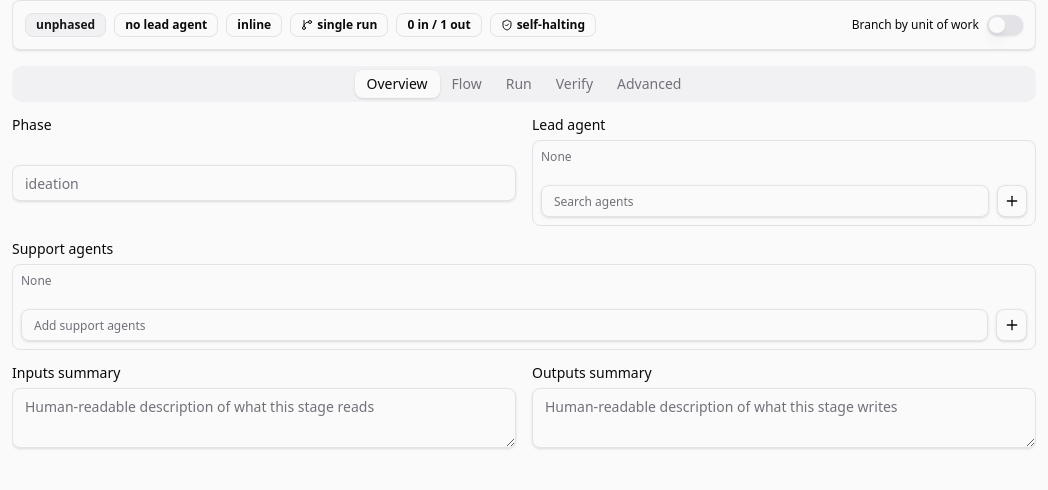
Test: StageEditor › shows advanced manual fields directly when the Advanced tab is opened
Expected: the field labelled "manual stage dependencies" is not shown
Click the tab "Advanced" at [649, 84], box [605, 70, 694, 98]
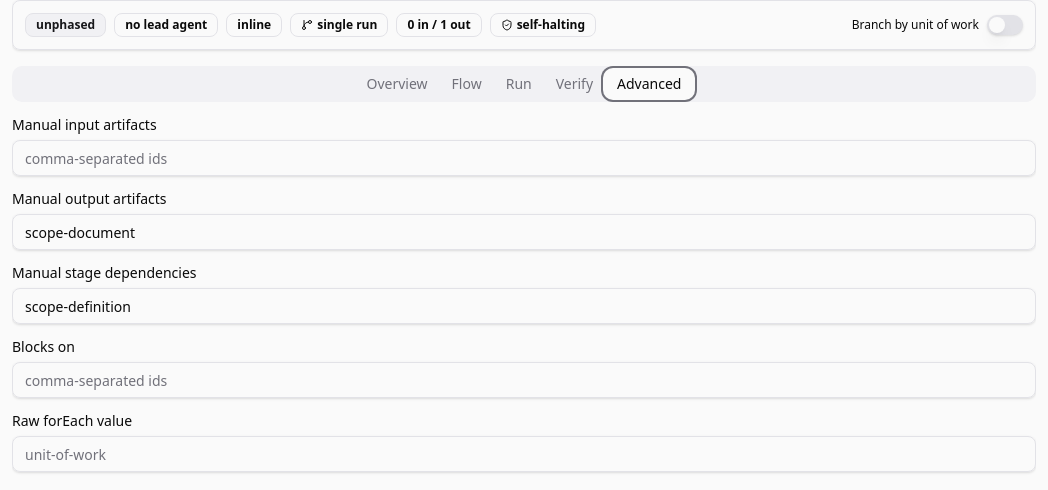
Expected: the field labelled "Manual stage dependencies" holds "scope-definition", [12, 288, 1036, 324]
Expected: the field labelled "Manual output artifacts" holds "scope-document", [12, 214, 1036, 250]
